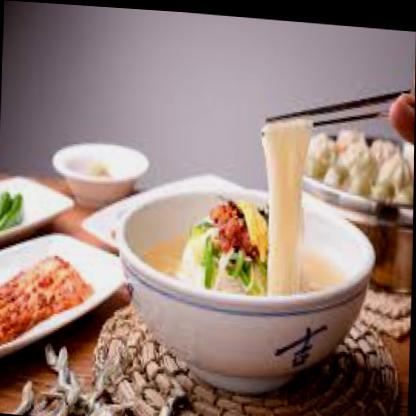Kimchi stew: (0, 243, 99, 353)
banquet noodles: (136, 175, 336, 320)
